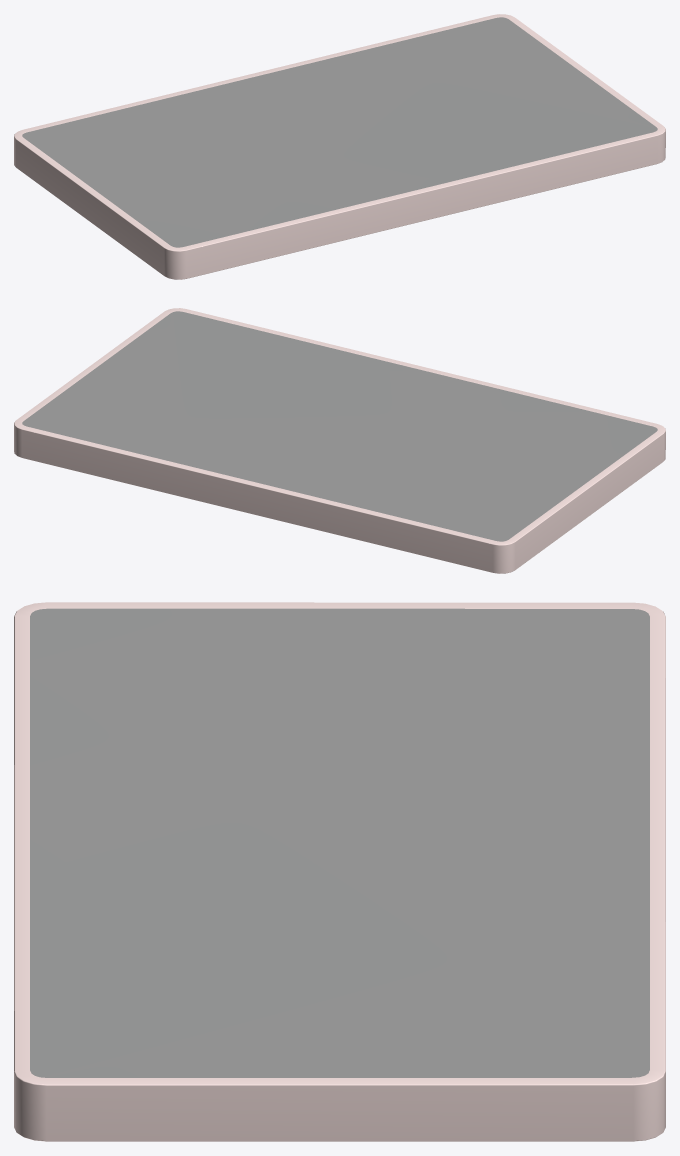
The model's file is Public_5_Base_1.glb.
The picture shows the model from 3 angles, top to bottom: view 1: azimuth 30°, elevation 25°; view 2: azimuth 150°, elevation 25°; view 3: azimuth 270°, elevation 25°; orthographic projection. The views are drawn at different scales.
Parts seen in each view (by area): view 1: Public_5_Base_1; view 2: Public_5_Base_1; view 3: Public_5_Base_1.
Part boxes in pixels (x1,y1,x2,y2): Public_5_Base_1: [14, 14, 665, 279]; Public_5_Base_1: [14, 308, 665, 573]; Public_5_Base_1: [14, 602, 665, 1141].
Bounding box in the file's own units: 21.88 × 1.21 × 12.48.
Materials: 1 (1 with a texture image).
